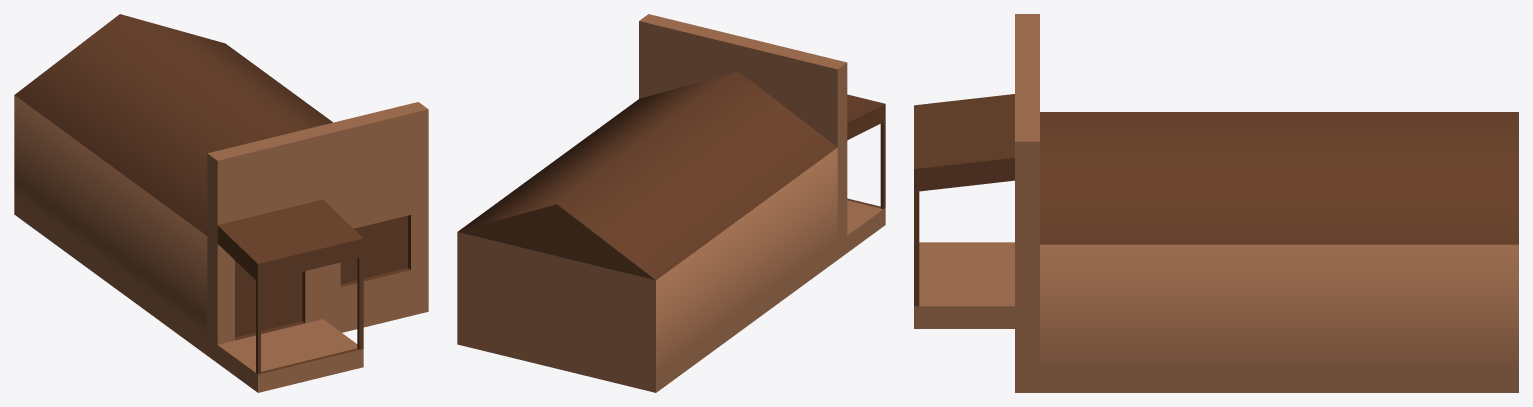
Rendered from House1.fbx.
3 renders of one model, left to right at view 1: azimuth 30°, elevation 25°; view 2: azimuth 150°, elevation 25°; view 3: azimuth 270°, elevation 25°, orthographic. The views are drawn at different scales.
Parts seen in each view (by area): view 1: pCube2; view 2: pCube2; view 3: pCube2.
Boxes of the visible parts, x1=… form: pCube2: x1=14, y1=14, x2=428, y2=392; pCube2: x1=457, y1=14, x2=885, y2=392; pCube2: x1=914, y1=14, x2=1518, y2=392.
Size of the model in its own units: 12 by 11 by 24.
